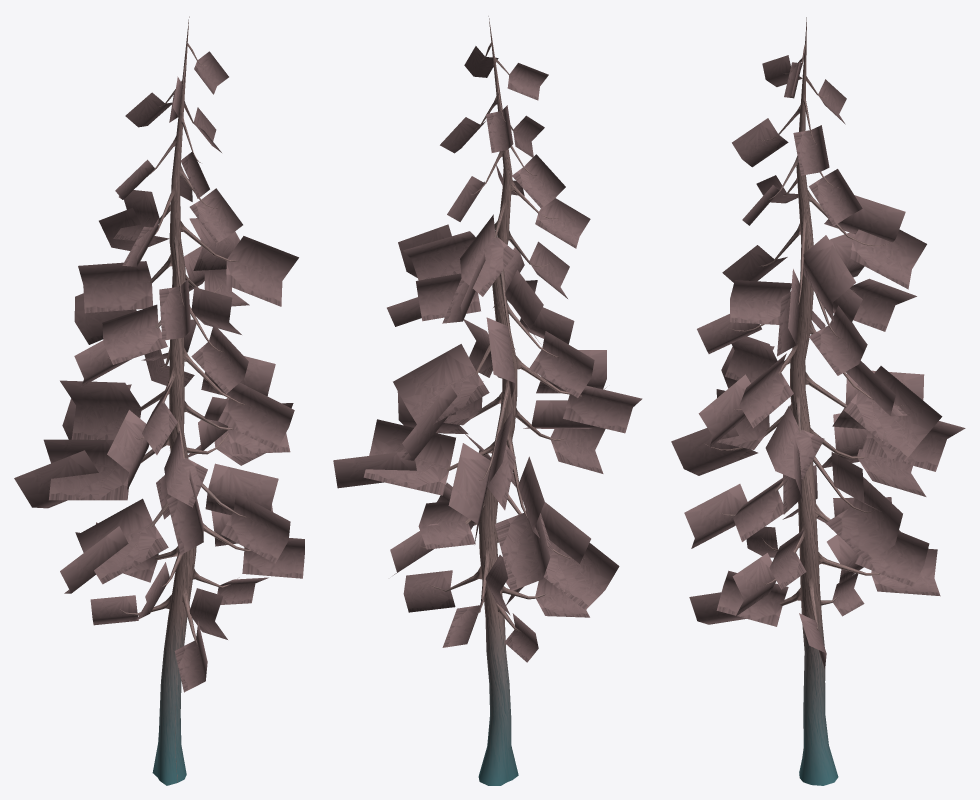
The picture shows the model from 3 angles, left to right: view 1: azimuth 30°, elevation 25°; view 2: azimuth 150°, elevation 25°; view 3: azimuth 270°, elevation 25°; orthographic projection.
Parts seen in each view (by area): view 1: submesh_1, submesh_0; view 2: submesh_1, submesh_0; view 3: submesh_1, submesh_0.
Part boxes in pixels (x1,y1,x2,y2): submesh_1: (14, 51, 304, 692); submesh_0: (106, 16, 251, 785); submesh_1: (333, 46, 642, 662); submesh_0: (419, 16, 606, 785); submesh_1: (671, 55, 965, 668); submesh_0: (704, 17, 903, 785).
Bounding box in the file's own units: 3.17 × 9.19 × 3.18.
2 materials, 2 textured.
